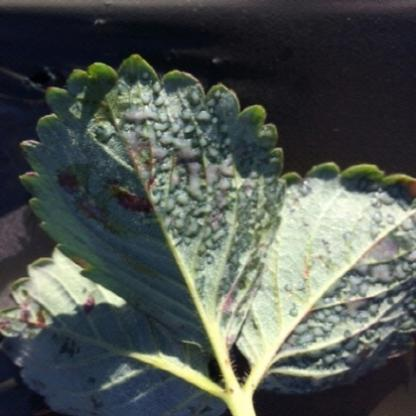Strawberry_Angular_LeafSpot: (18, 54, 288, 356), (236, 161, 415, 394), (0, 243, 229, 415)
